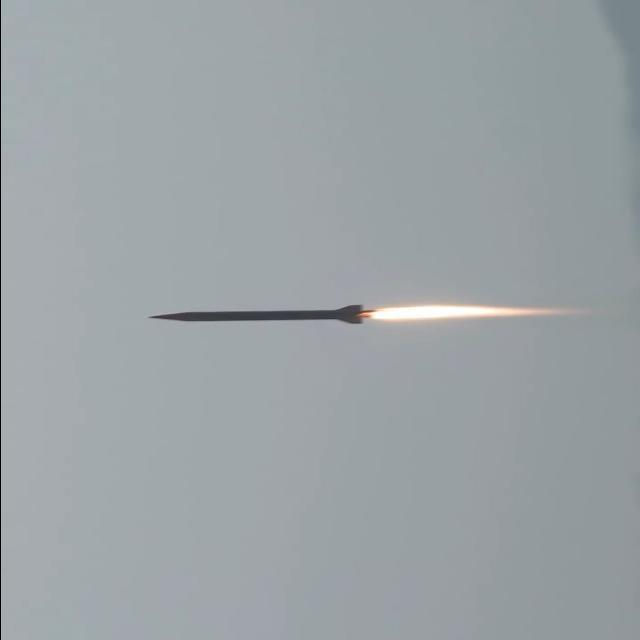Missile: (146, 298, 386, 328)
